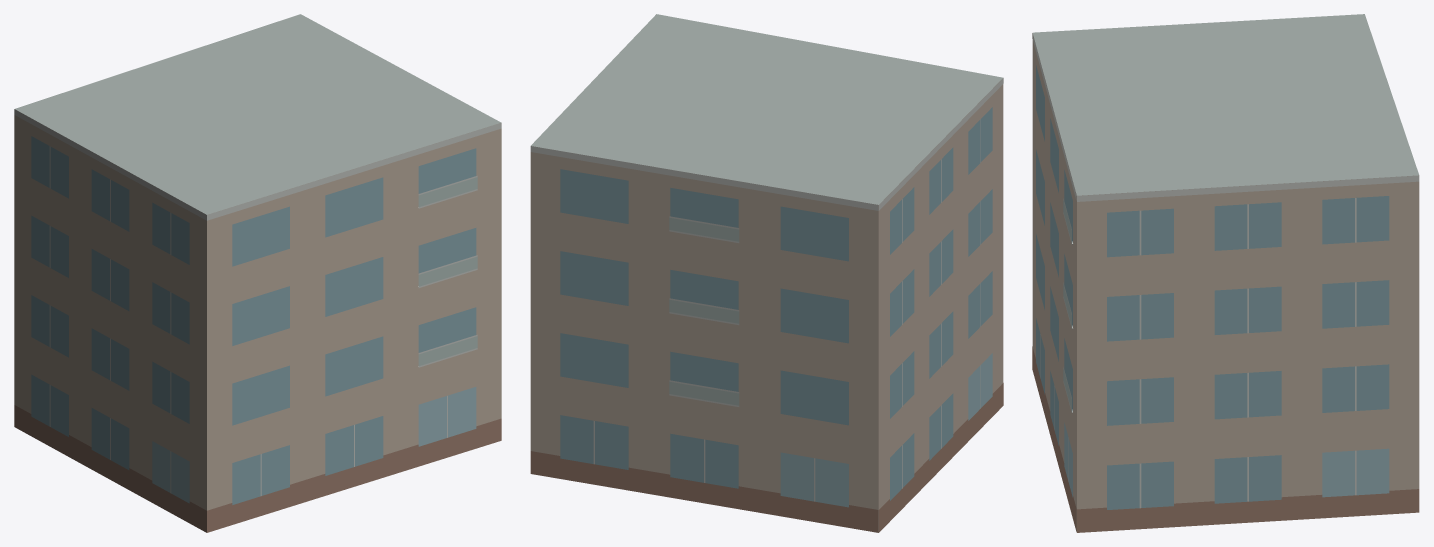
The model's file is survey-upis-32693131.glb.
The picture shows the model from 3 angles, left to right: view 1: azimuth 30°, elevation 25°; view 2: azimuth 150°, elevation 25°; view 3: azimuth 270°, elevation 25°; orthographic projection. The views are drawn at different scales.
Visible parts, largest first — view 1: survey-upis-32693131.tmp; view 2: survey-upis-32693131.tmp; view 3: survey-upis-32693131.tmp.
Boxes of the visible parts, x1=… form: survey-upis-32693131.tmp: x1=14, y1=14, x2=501, y2=532; survey-upis-32693131.tmp: x1=530, y1=14, x2=1003, y2=532; survey-upis-32693131.tmp: x1=1032, y1=14, x2=1419, y2=532.
Size of the model in its own units: 15.27 by 13.2 by 13.74.
